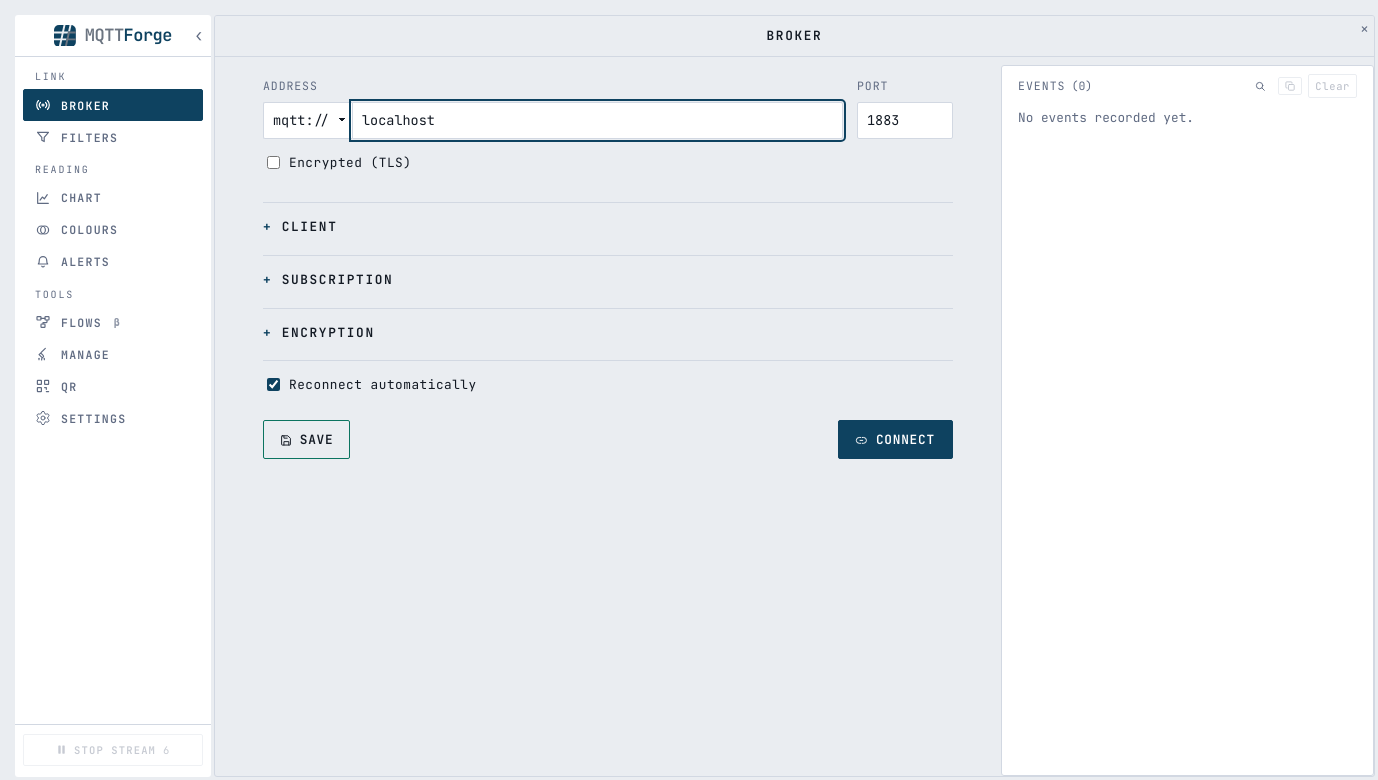
it: every control answers to the word printed on it › holds with the Chart panel open
Expected: the button named "Close Broker panel" is shown, [1355, 16, 1374, 38]
Step 1. Click the button "Chart" → (113, 198), box [23, 182, 203, 214]
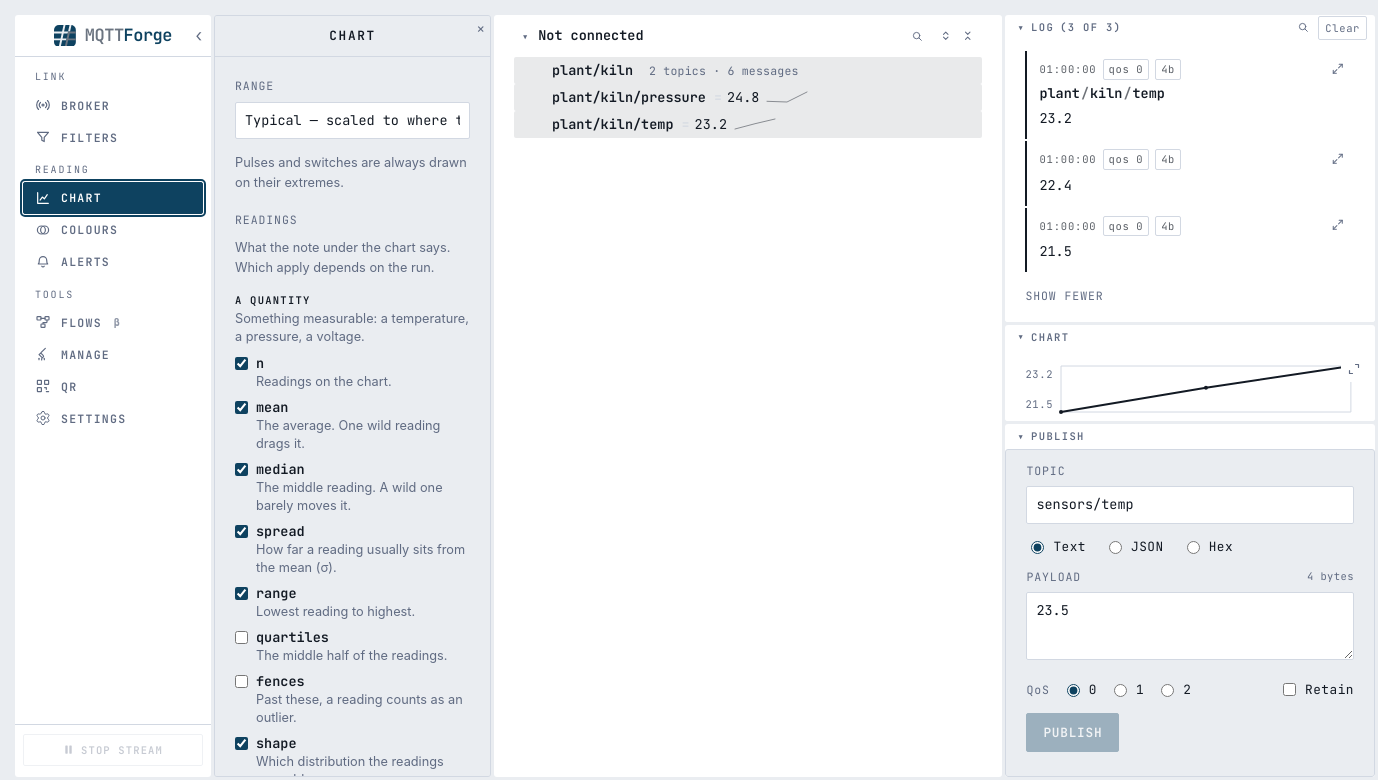
Expected: the element named "Chart panel" is shown, [214, 15, 491, 777]
